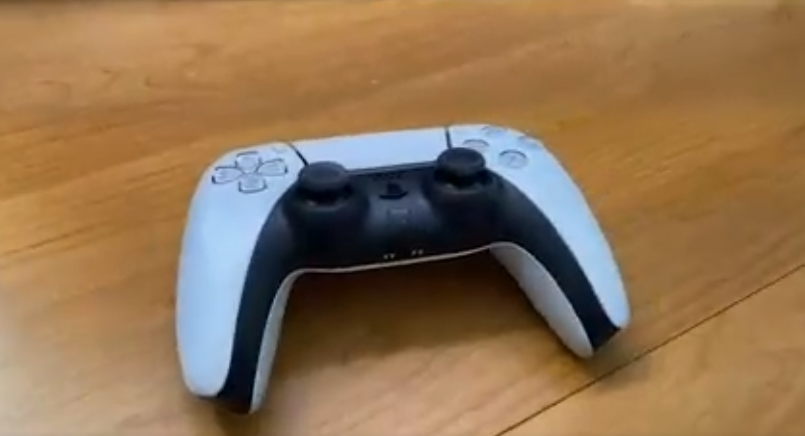gamingconsole: (175, 123, 623, 411)
